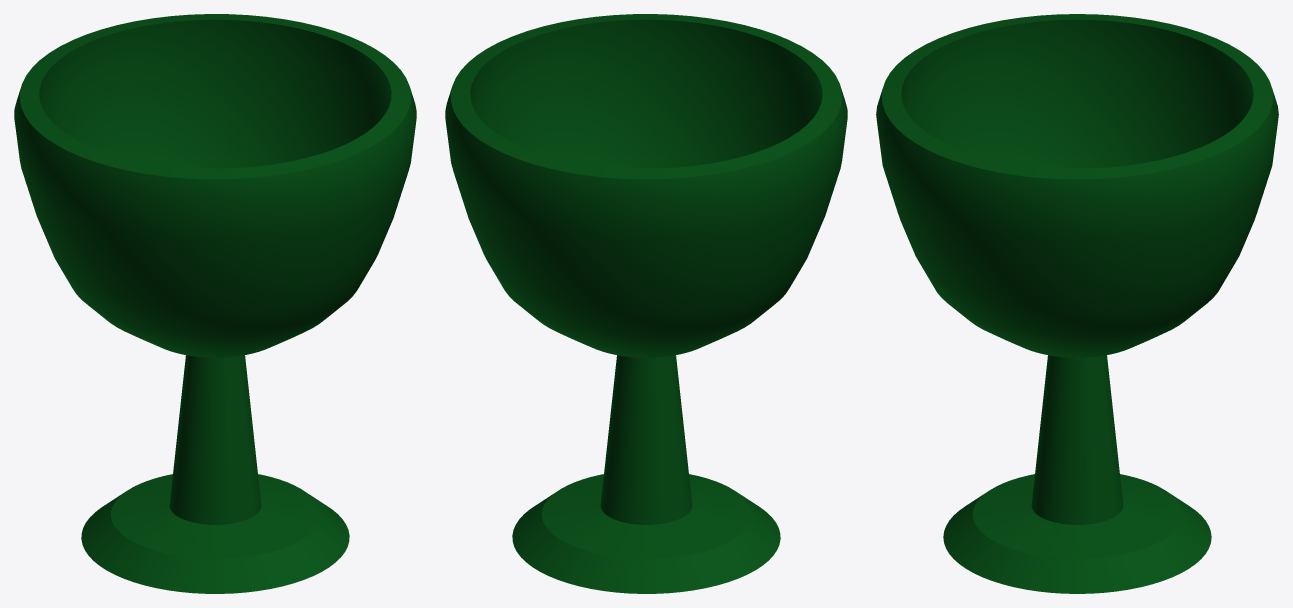
The model's file is cup8.obj.
The picture shows the model from 3 angles, left to right: view 1: azimuth 30°, elevation 25°; view 2: azimuth 150°, elevation 25°; view 3: azimuth 270°, elevation 25°; orthographic projection.
Parts seen in each view (by area): view 1: Cup8.001; view 2: Cup8.001; view 3: Cup8.001.
Boxes of the visible parts, <box> form: Cup8.001: <box>14,14,416,593</box>; Cup8.001: <box>445,14,847,593</box>; Cup8.001: <box>876,14,1278,593</box>.
Bounding box in the file's own units: 0.8853 × 1.09 × 0.8853.
